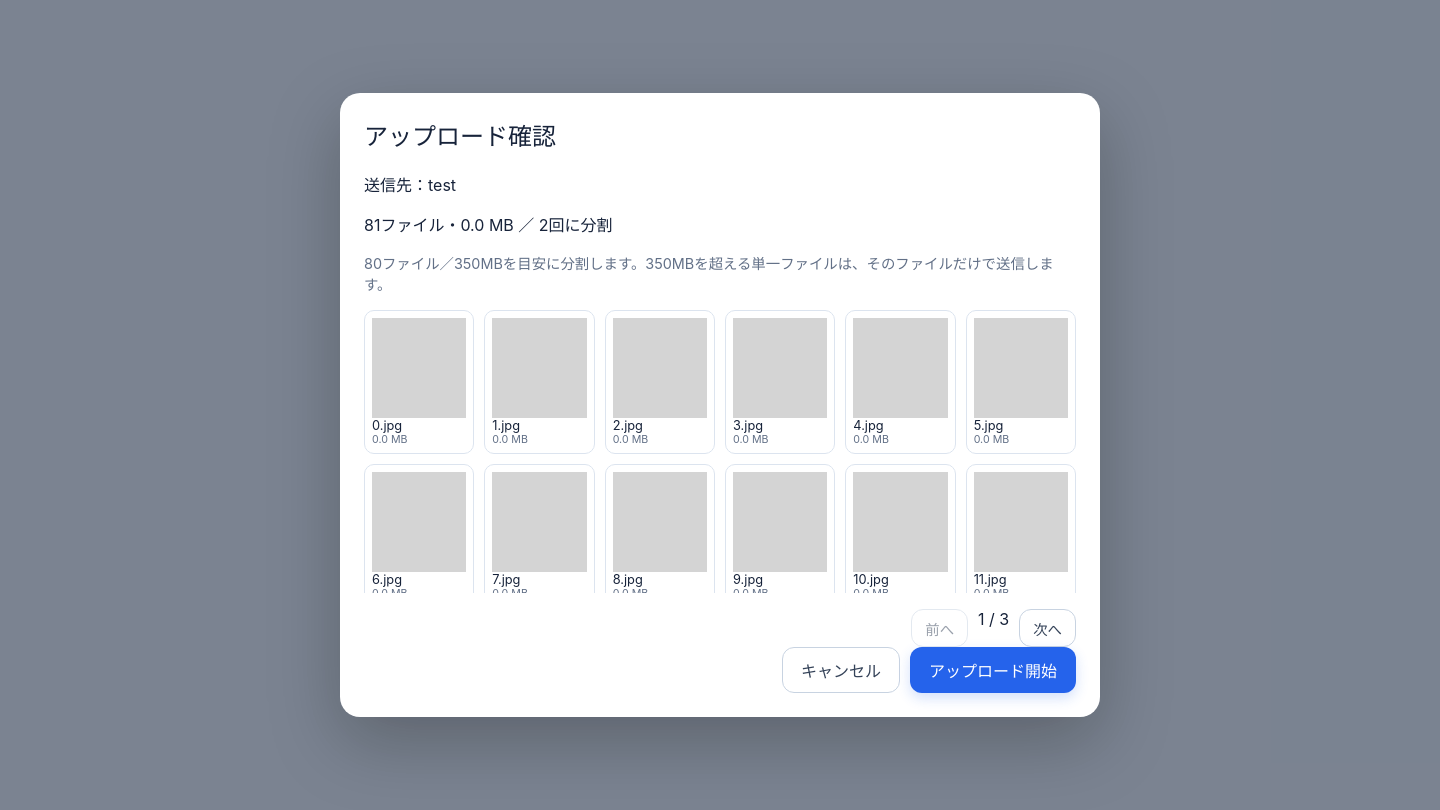
Test: album upload confirmation › previews first, sends sequential batches, shows final progress
Click the button "アップロード開始" at coordinates (993, 670), box [910,647,1076,693]
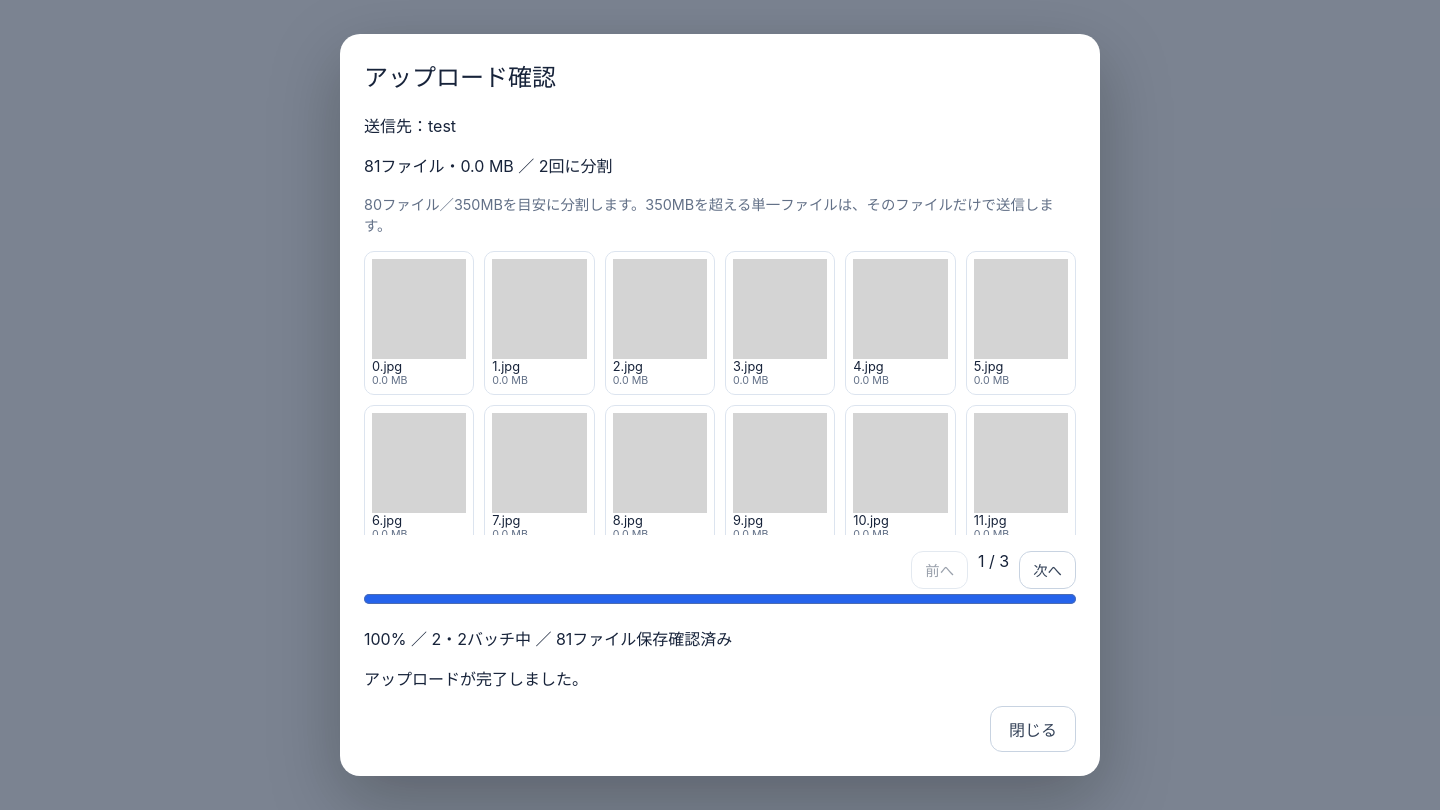
Check: the text "100%" is shown, box [364,629,732,649]
